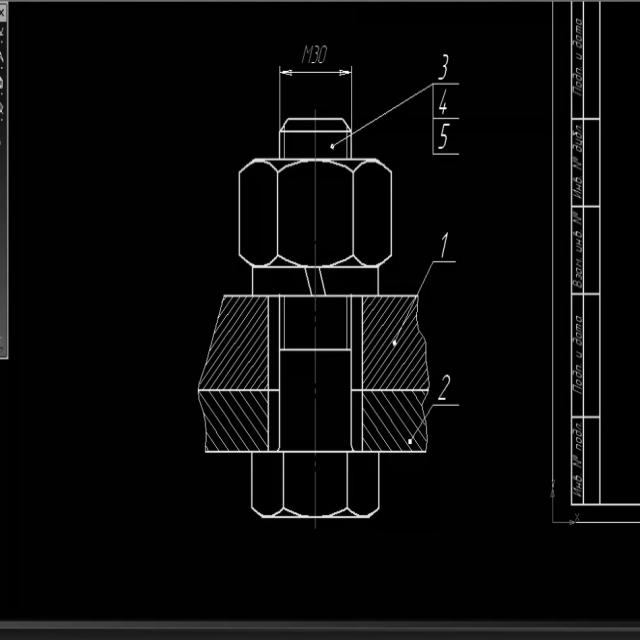marking_line: (279, 65, 354, 116)
numeric: (436, 374, 452, 401), (438, 121, 450, 151), (437, 54, 450, 80), (441, 229, 450, 258), (439, 89, 448, 115), (319, 43, 328, 64), (312, 44, 320, 64)
